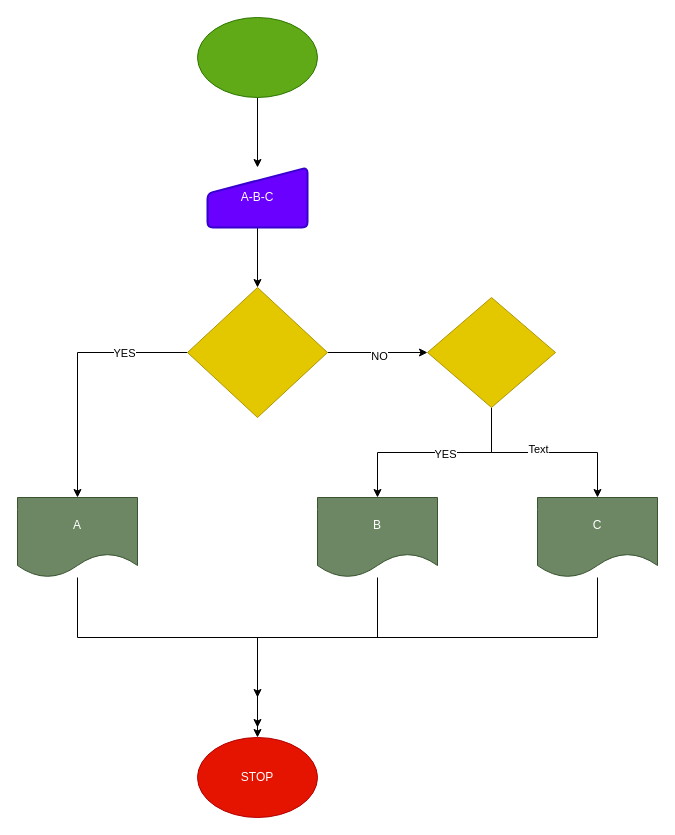
This 675x835 diagram has some shape labels left out. The shapes that lost their labels are listed below. From the top down, each one's centre as x and y in pixels, then its label:
At point 257,57: "START".
At point 257,352: "A < B AND A < C".
At point 491,352: "B < C".
